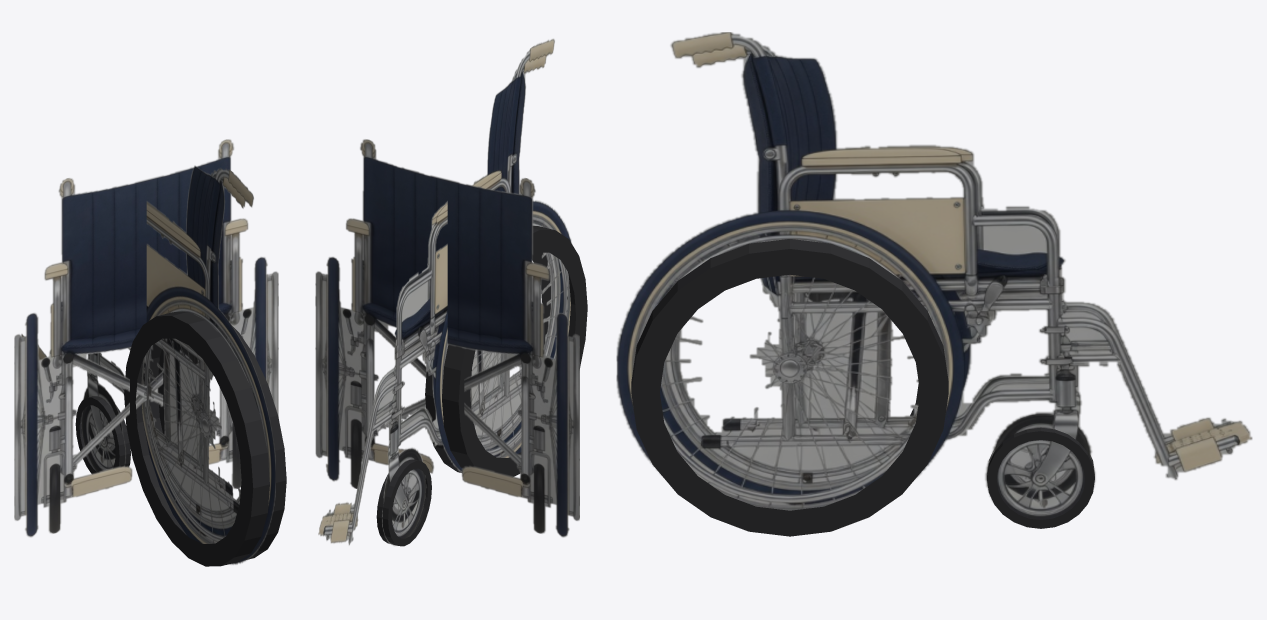
The model's file is manual_wheelchair.glb.
3 renders of one model, left to right at view 1: azimuth 30°, elevation 25°; view 2: azimuth 150°, elevation 25°; view 3: azimuth 270°, elevation 25°, orthographic. The views are drawn at different scales.
Parts seen in each view (by area): view 1: manual_wheelchair, wheel_BC, wheel_FC; view 2: manual_wheelchair, wheel_BC, wheel_FC; view 3: manual_wheelchair, wheel_BC, wheel_FC.
Boxes of the visible parts, x1,y1,x2,y2 form: manual_wheelchair: (14, 139, 278, 564); wheel_BC: (124, 312, 286, 566); wheel_FC: (75, 396, 130, 474); manual_wheelchair: (315, 38, 579, 546); wheel_BC: (425, 226, 587, 476); wheel_FC: (376, 459, 431, 546); manual_wheelchair: (616, 32, 1252, 519); wheel_BC: (631, 239, 948, 536); wheel_FC: (987, 427, 1094, 528).
Size of the model in its own units: 0.6487 by 0.9418 by 1.1.
Materials: 2 (1 with a texture image).
